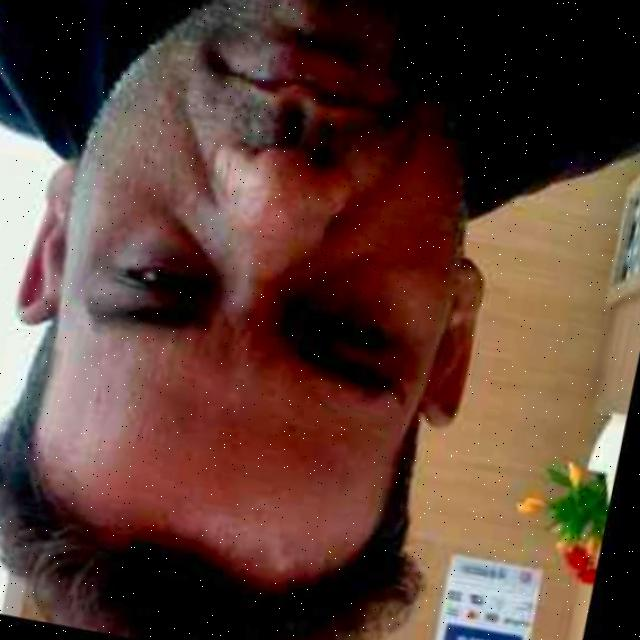puffy_eyes: (122, 211, 223, 273)
